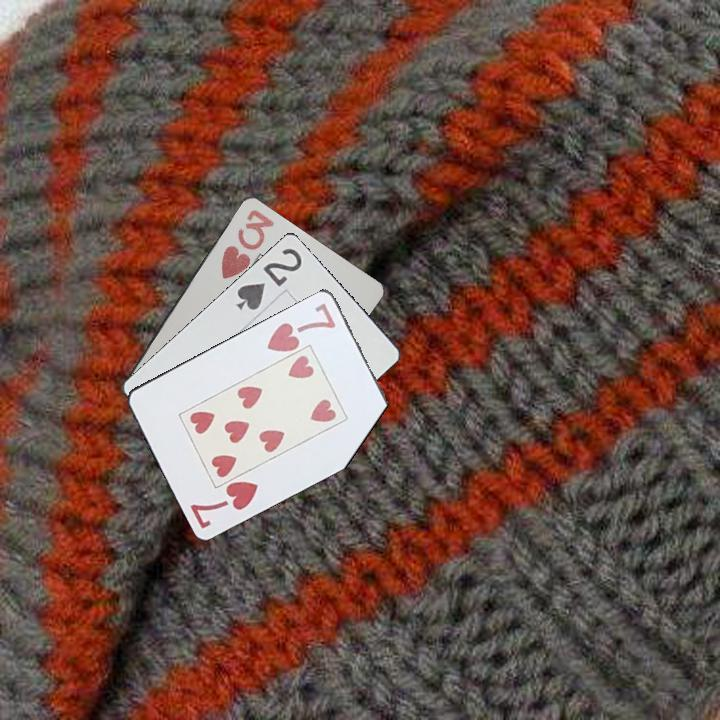2s: (232, 244, 305, 313)
3h: (217, 205, 278, 283)
7h: (263, 299, 339, 355), (187, 477, 261, 532)
